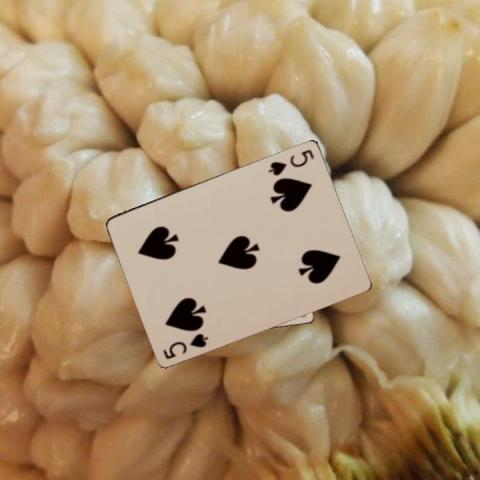5s: (265, 146, 316, 177), (160, 330, 210, 360)
